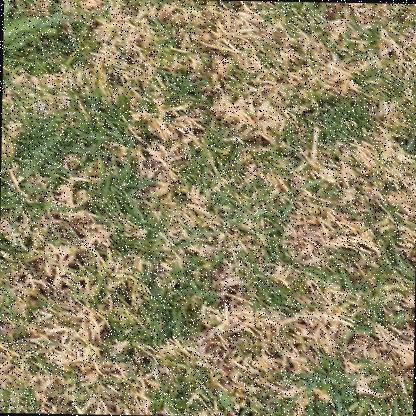Weeds: (3, 0, 73, 73)
